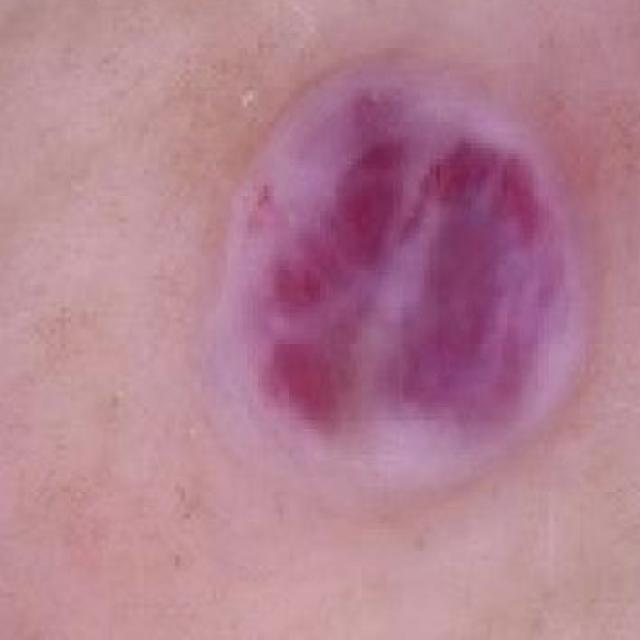VASC: (211, 21, 577, 574)
